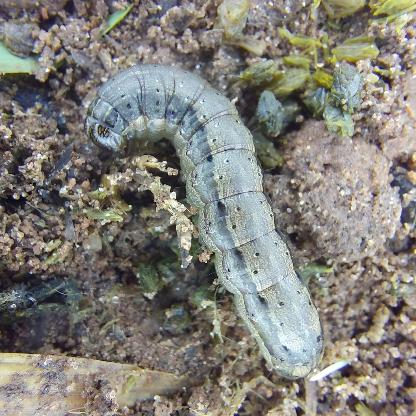Fall Armyworm Larvae: (77, 58, 329, 386)
